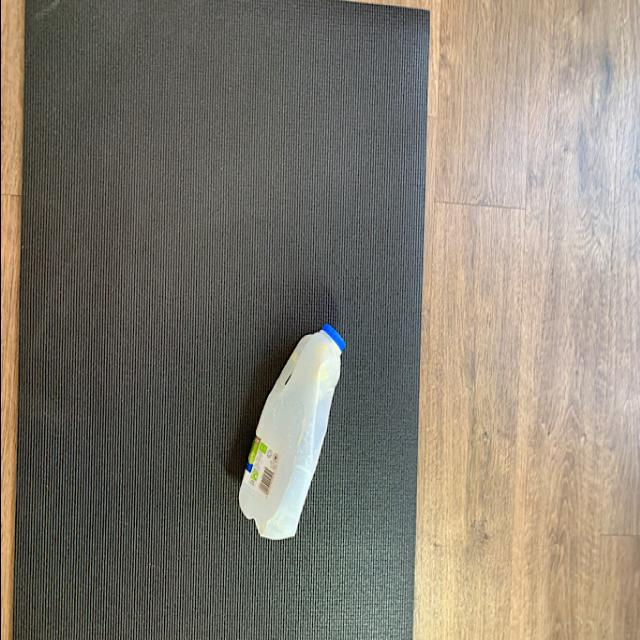HDPEM: (230, 324, 344, 546)
